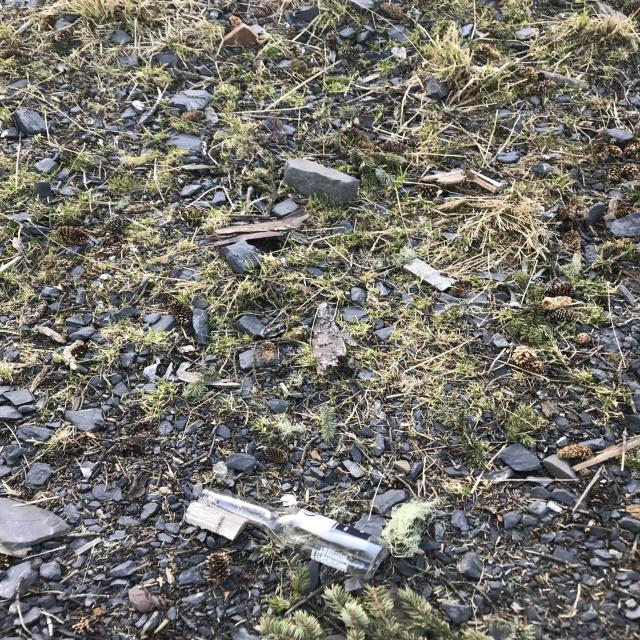Glass bottle: (198, 487, 389, 580)
